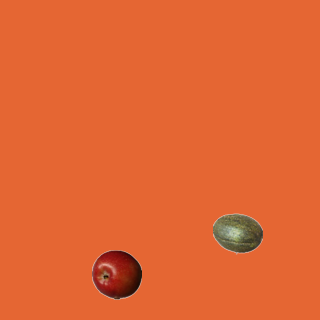Apple Braeburn: (91, 249, 141, 299)
Melon Piel de Sapo: (212, 208, 262, 258)
